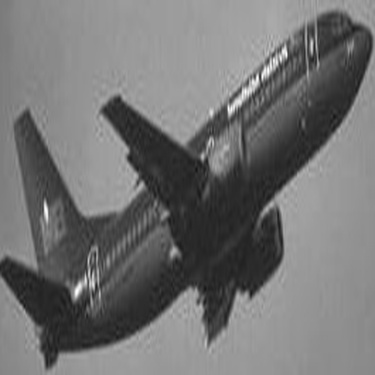airplane: (4, 5, 369, 372)
